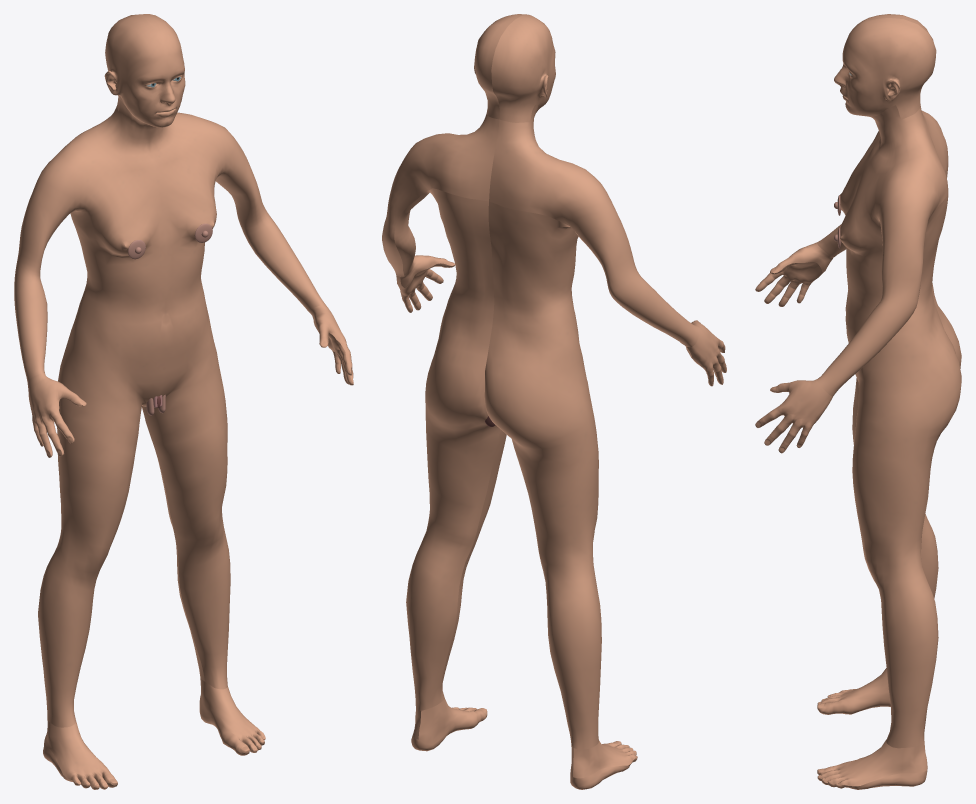
File: body-erwachsener-divers-vulva-brueste-real-v3.glb
3 views of the same model, side by side, from view 1: azimuth 30°, elevation 25°; view 2: azimuth 150°, elevation 25°; view 3: azimuth 270°, elevation 25° (orthographic).
Visible parts, largest first — view 1: real-human-body; view 2: real-human-body; view 3: real-human-body.
Part boxes in pixels (left/top/right/bottom): real-human-body: left=14, top=14, right=353, bottom=789; real-human-body: left=382, top=14, right=726, bottom=789; real-human-body: left=755, top=14, right=961, bottom=789.
Bounding box in the file's own units: 0.7626 × 1.72 × 0.442.
8 materials, 1 textured.
